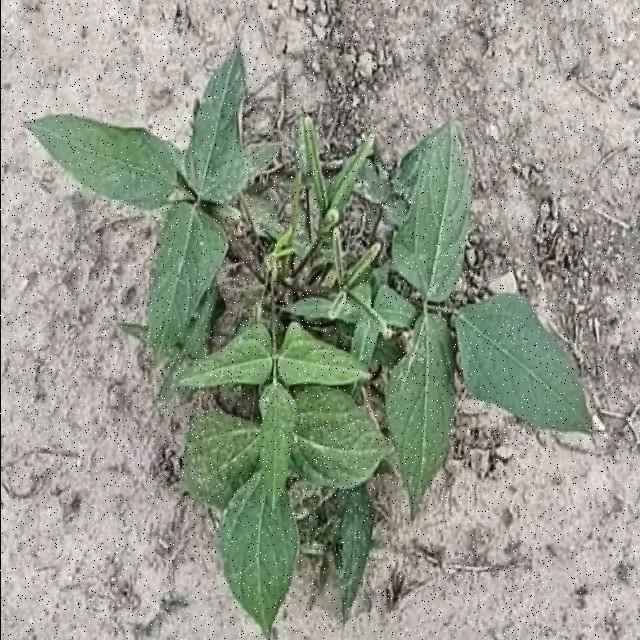plant: (25, 53, 590, 635), (455, 294, 592, 432)
